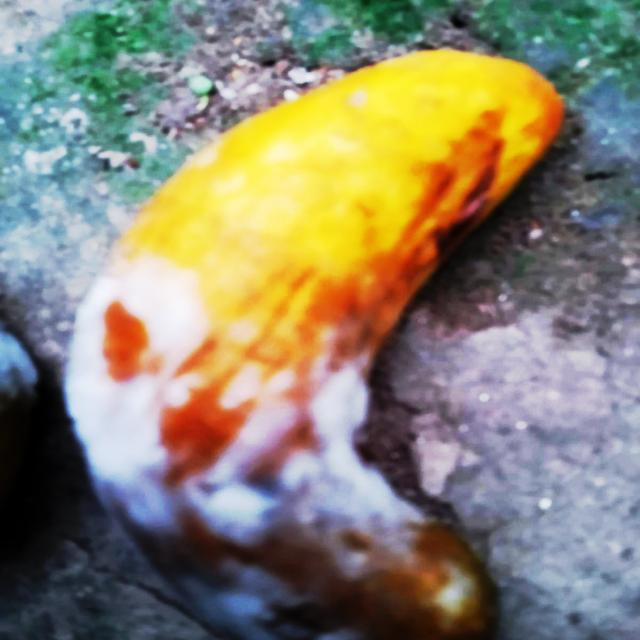Pythium-Fruit-Rot: (62, 258, 436, 639)
